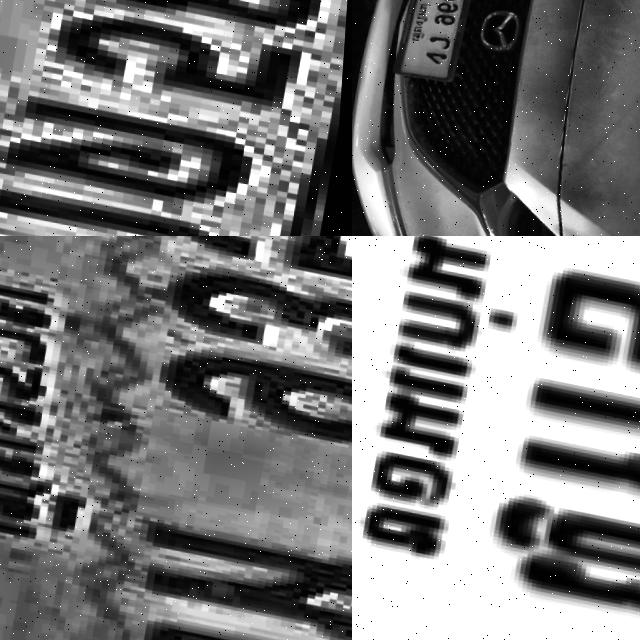license-plate: (0, 236, 352, 640), (352, 236, 640, 640), (0, 0, 352, 236), (396, 0, 475, 80)
